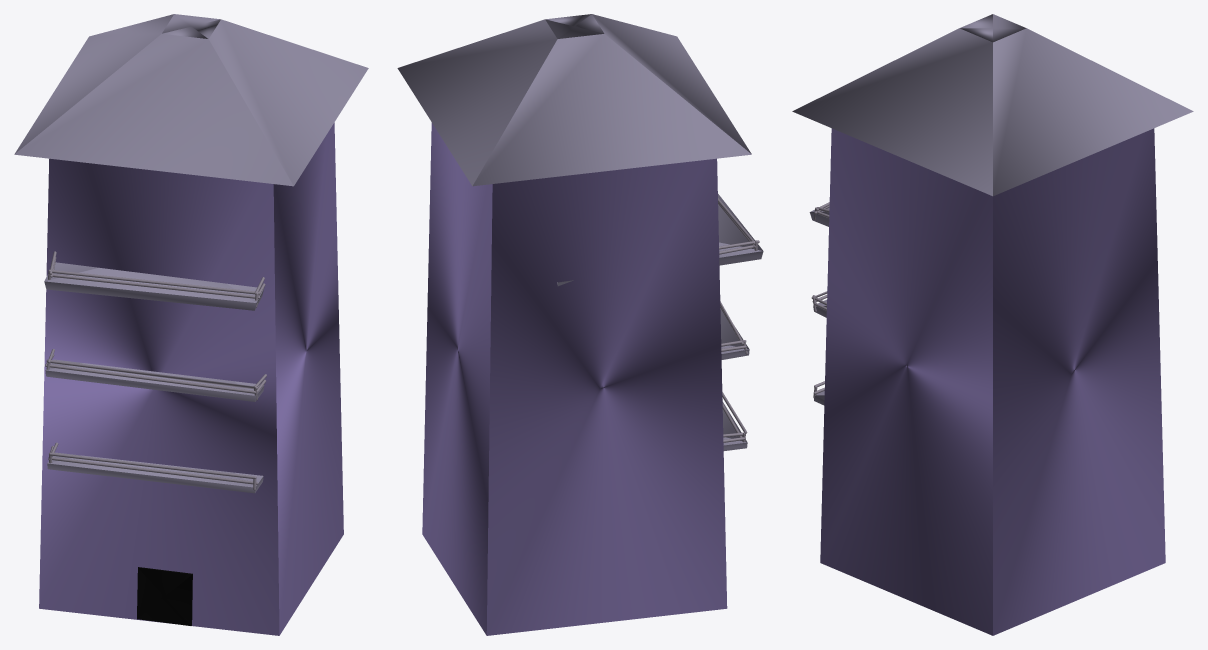
File: apartment.fbx
3 views of the same model, side by side, from view 1: azimuth 30°, elevation 25°; view 2: azimuth 150°, elevation 25°; view 3: azimuth 270°, elevation 25° (orthographic).
Visible parts, largest first — view 1: apartment; view 2: apartment; view 3: apartment.
Part boxes in pixels (box(x1,y1,x2,y2)): apartment: box(14, 14, 368, 635); apartment: box(397, 14, 763, 635); apartment: box(792, 14, 1193, 635).
Bounding box in the file's own units: 103 × 151 × 103.
